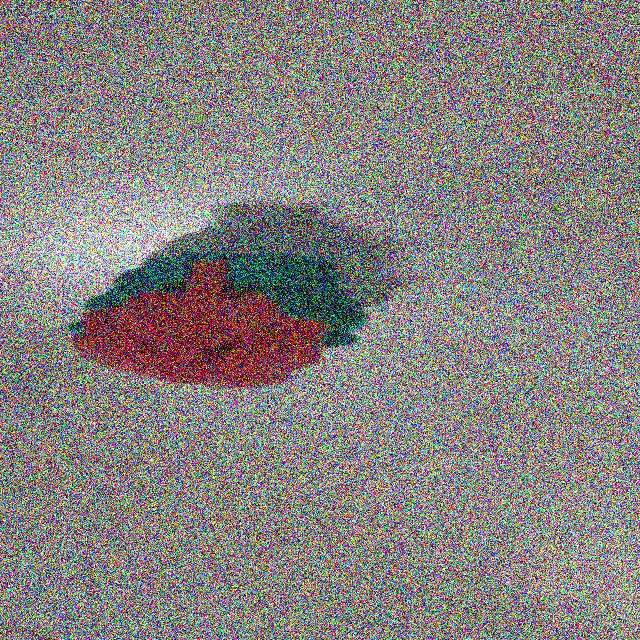House: (76, 246, 367, 398)
